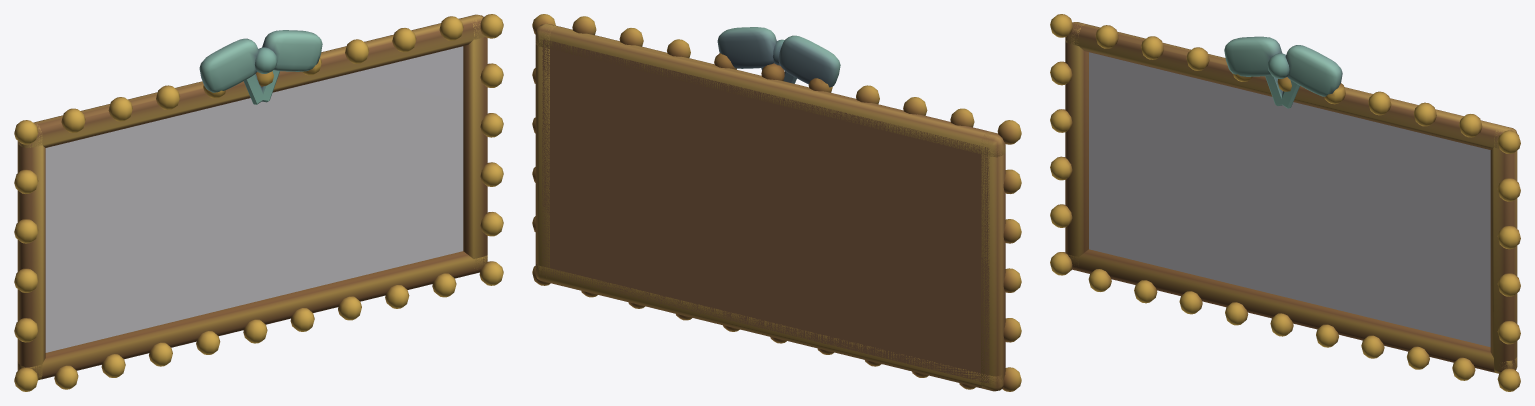
Rendered from board_patisserie.glb.
3 renders of one model, left to right at view 1: azimuth 30°, elevation 25°; view 2: azimuth 150°, elevation 25°; view 3: azimuth 330°, elevation 25°, orthographic. The views are drawn at different scales.
Visible parts, largest first — view 1: board_patisserie_menu, board_patisserie; view 2: board_patisserie; view 3: board_patisserie_menu, board_patisserie.
Part boxes in pixels (x1,y1,x2,y2): board_patisserie_menu: [45, 46, 463, 352]; board_patisserie: [14, 14, 503, 391]; board_patisserie: [532, 14, 1021, 391]; board_patisserie_menu: [1089, 52, 1490, 347]; board_patisserie: [1050, 14, 1520, 391].
Bounding box in the file's own units: 2.71 × 1.64 × 0.225.
